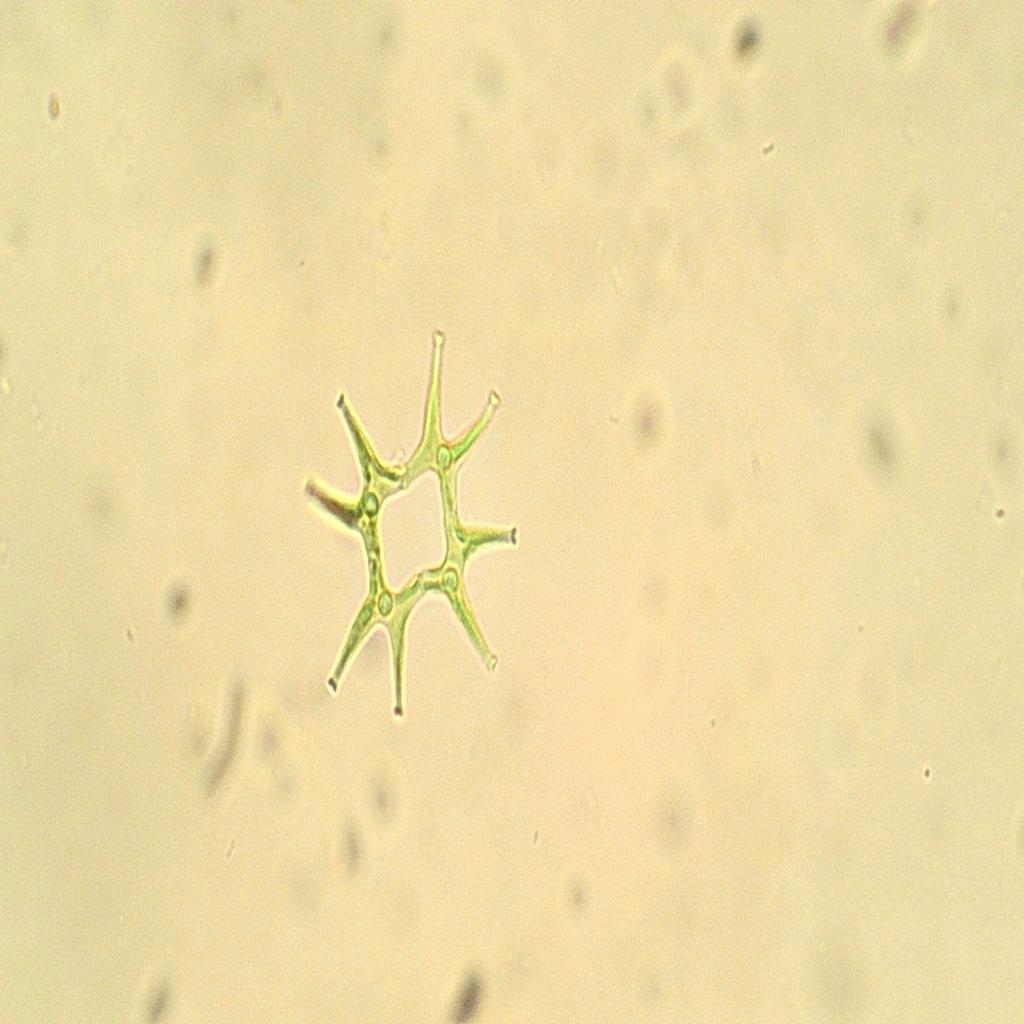Pediastrum_CO: (291, 300, 538, 744)
